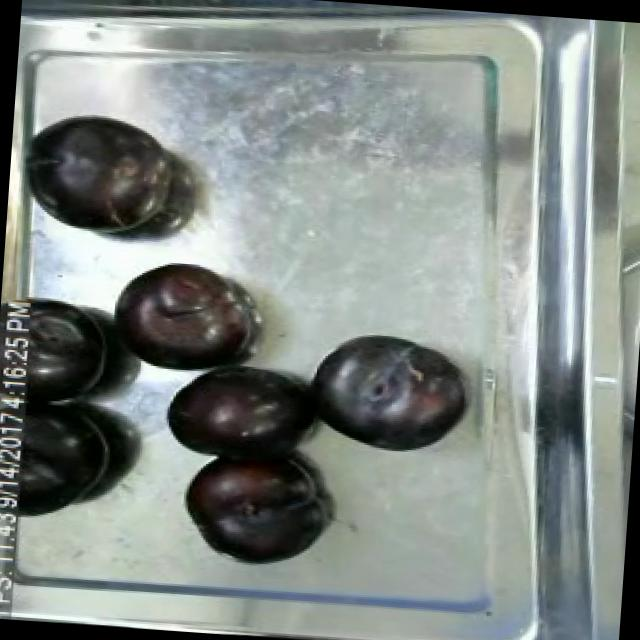Fruit: (97, 245, 265, 384), (306, 328, 475, 460), (21, 110, 182, 243), (176, 444, 328, 570), (154, 357, 322, 470), (0, 387, 123, 528)
